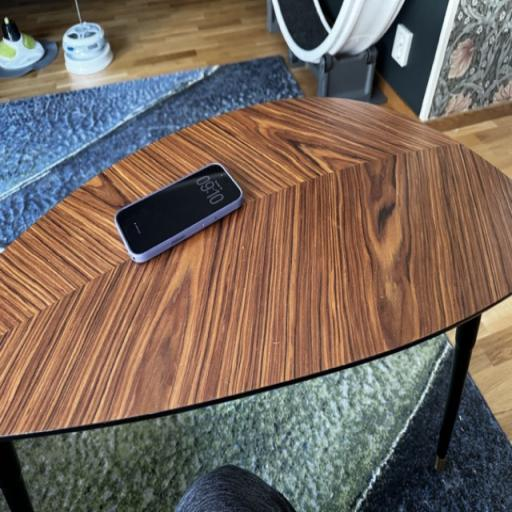phone: (112, 159, 261, 259)
